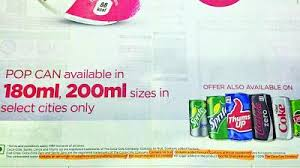coke-can-diet: (271, 96, 294, 139)
coke-can-zero: (252, 92, 276, 142)
